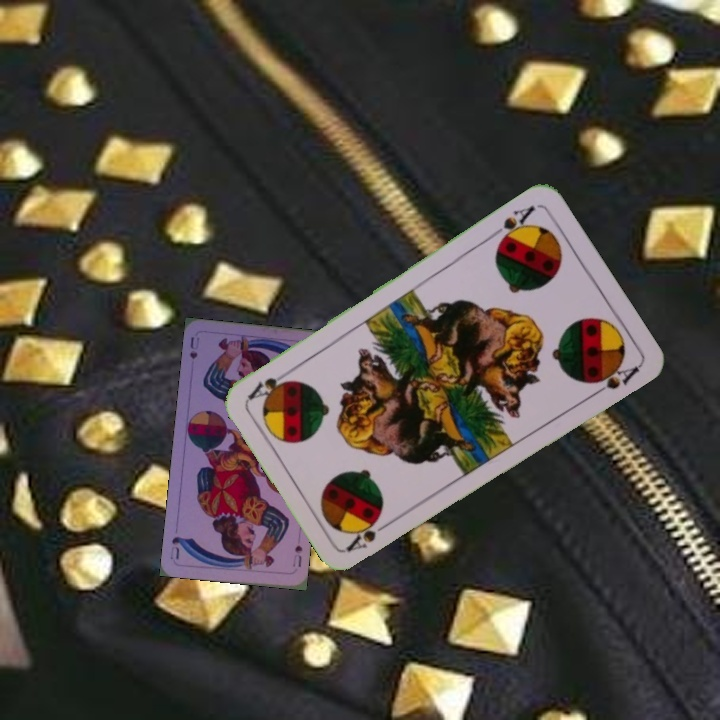SA: (486, 201, 538, 248), (343, 515, 396, 554)
SU: (288, 541, 305, 570), (186, 332, 202, 362)
